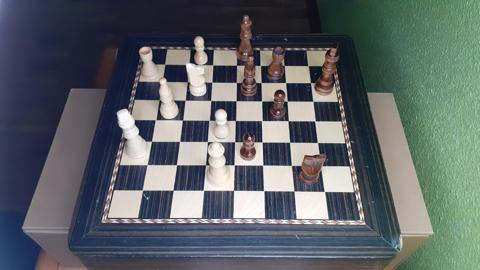xcorner: (151, 117, 159, 125), (282, 62, 289, 70), (308, 80, 316, 87), (259, 79, 266, 87), (183, 79, 191, 86), (158, 78, 165, 86), (285, 98, 292, 106), (181, 97, 188, 105), (313, 119, 321, 126), (260, 118, 267, 126), (316, 140, 323, 148), (288, 140, 296, 147), (260, 140, 268, 147), (232, 140, 240, 147), (176, 139, 183, 147), (232, 163, 239, 171), (202, 163, 210, 170), (143, 163, 151, 170), (322, 190, 330, 197), (292, 189, 299, 197), (262, 189, 269, 197), (306, 63, 313, 70), (258, 62, 265, 69), (234, 62, 241, 69), (210, 62, 217, 69), (186, 61, 193, 68), (161, 61, 168, 68), (284, 80, 291, 87), (234, 79, 241, 86), (209, 79, 216, 86), (311, 99, 318, 106), (259, 98, 266, 105), (233, 98, 240, 105), (207, 98, 214, 105), (155, 97, 162, 104), (287, 119, 294, 126), (233, 118, 240, 125), (206, 118, 213, 125), (179, 118, 186, 125), (204, 140, 211, 147), (148, 139, 155, 146), (319, 164, 326, 171), (290, 164, 297, 171), (261, 164, 268, 171), (173, 163, 180, 170), (231, 189, 238, 196), (201, 189, 208, 196), (170, 189, 177, 196), (139, 189, 146, 196)
